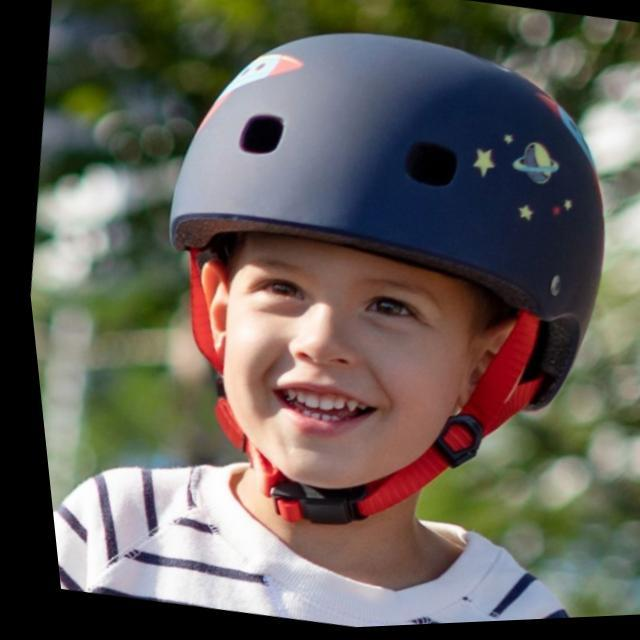Helmet: (165, 29, 608, 515)
